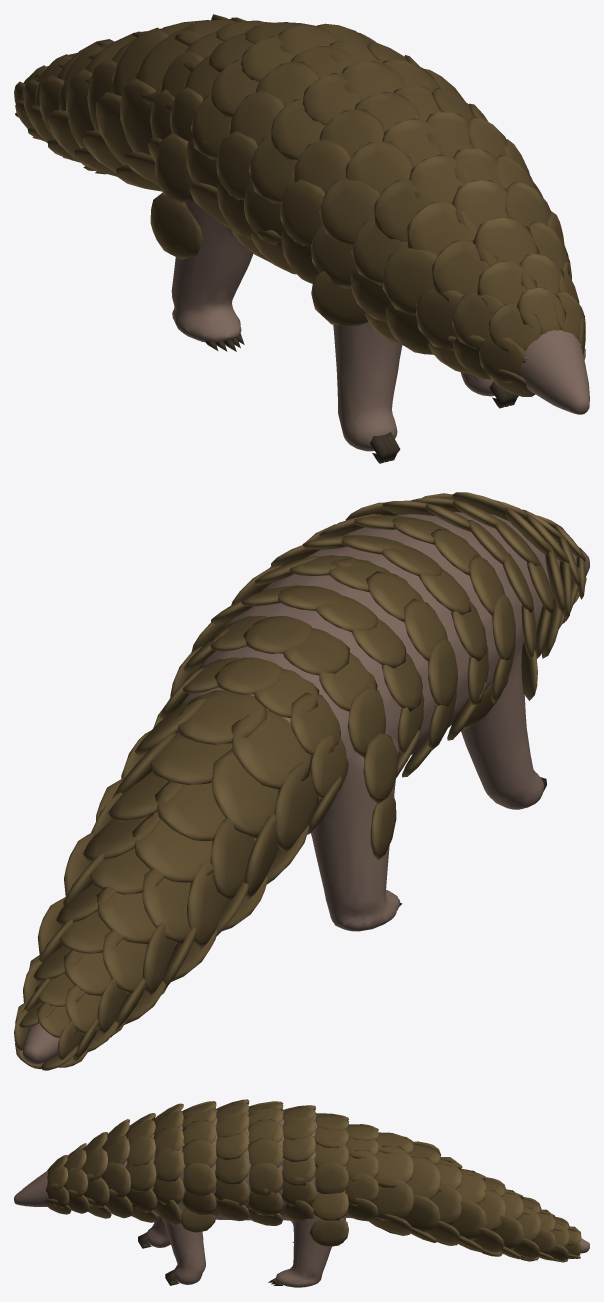
Rendered from SmutsiaGigantea.fbx.
The picture shows the model from 3 angles, top to bottom: view 1: azimuth 30°, elevation 25°; view 2: azimuth 150°, elevation 25°; view 3: azimuth 270°, elevation 25°; orthographic projection. The views are drawn at different scales.
Parts seen in each view (by area): view 1: SmutsiaGigantea; view 2: SmutsiaGigantea; view 3: SmutsiaGigantea.
Boxes of the visible parts, x1,y1,x2,y2 form: SmutsiaGigantea: (14,14,589,463); SmutsiaGigantea: (14,492,589,1070); SmutsiaGigantea: (14,1099,589,1287).
Size of the model in its own units: 0.4471 by 0.5724 by 1.88.
